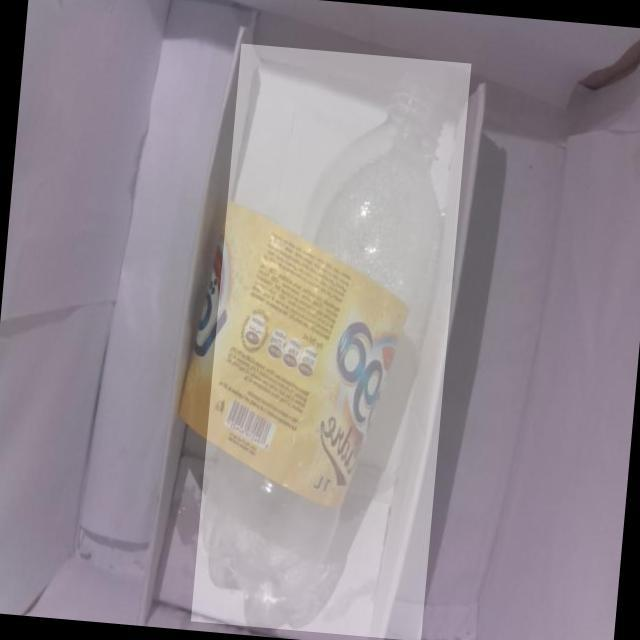good: (189, 42, 470, 640)
